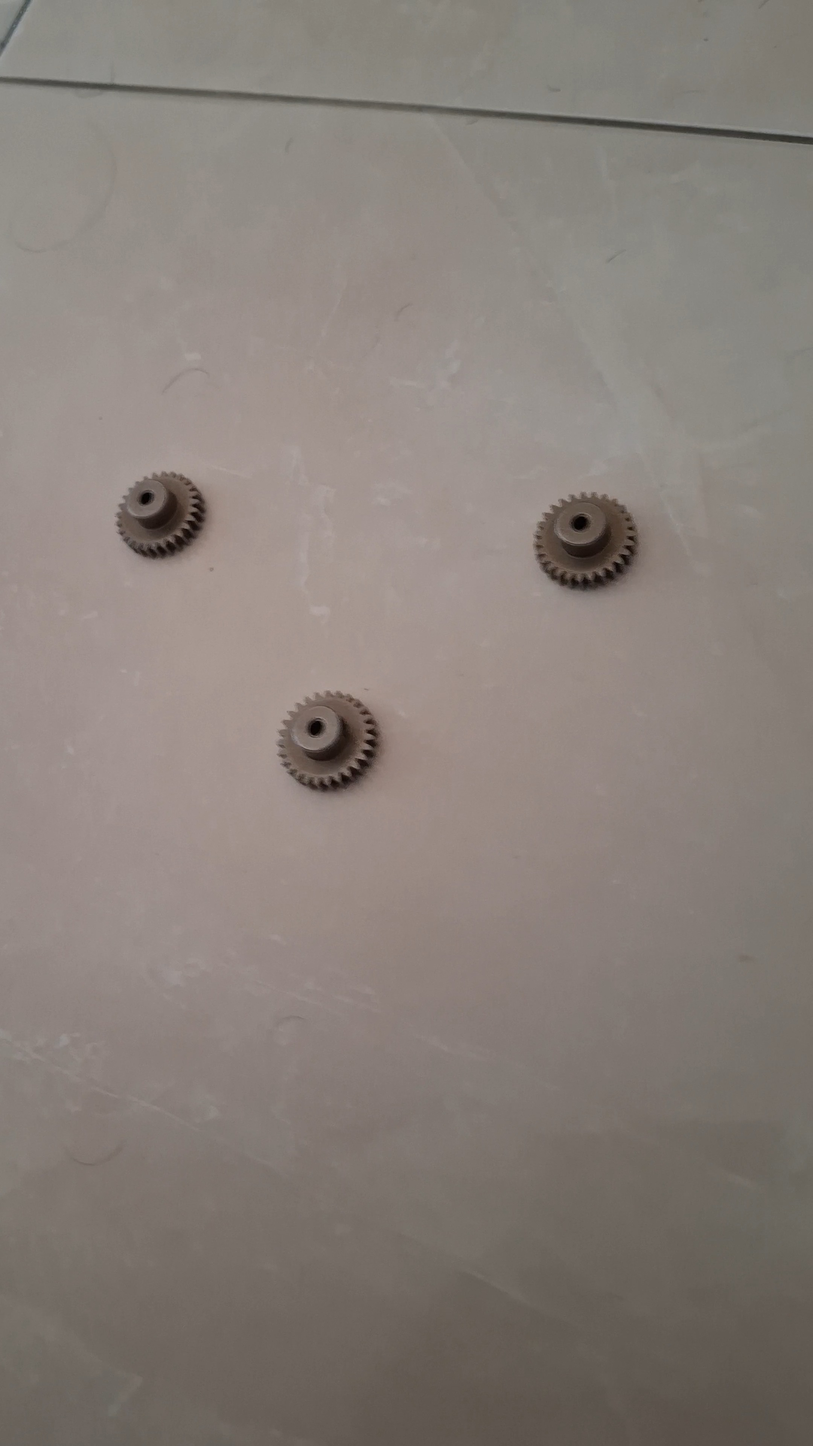spur gear: (278, 692, 378, 789), (534, 494, 637, 588), (117, 473, 204, 557)
